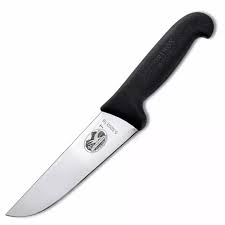kuchillu: (3, 10, 214, 217)
